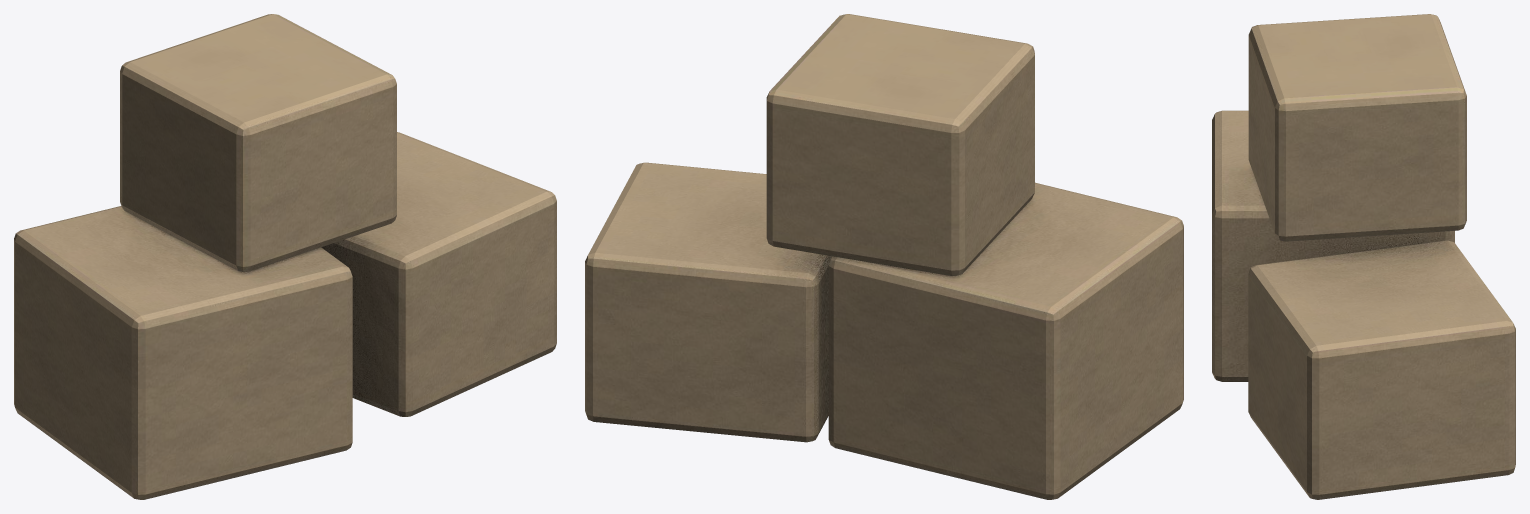
The model's file is p_kisten.glb.
The picture shows the model from 3 angles, left to right: view 1: azimuth 30°, elevation 25°; view 2: azimuth 150°, elevation 25°; view 3: azimuth 270°, elevation 25°; orthographic projection. The views are drawn at different scales.
Visible parts, largest first — view 1: p_kisten; view 2: p_kisten; view 3: p_kisten.
Boxes of the visible parts, x1,y1,x2,y2 form: p_kisten: (14,14,556,499); p_kisten: (585,14,1183,499); p_kisten: (1212,14,1515,499).
Bounding box in the file's own units: 0.2151 × 0.145 × 0.1251.
Materials: 1 (1 with a texture image).
